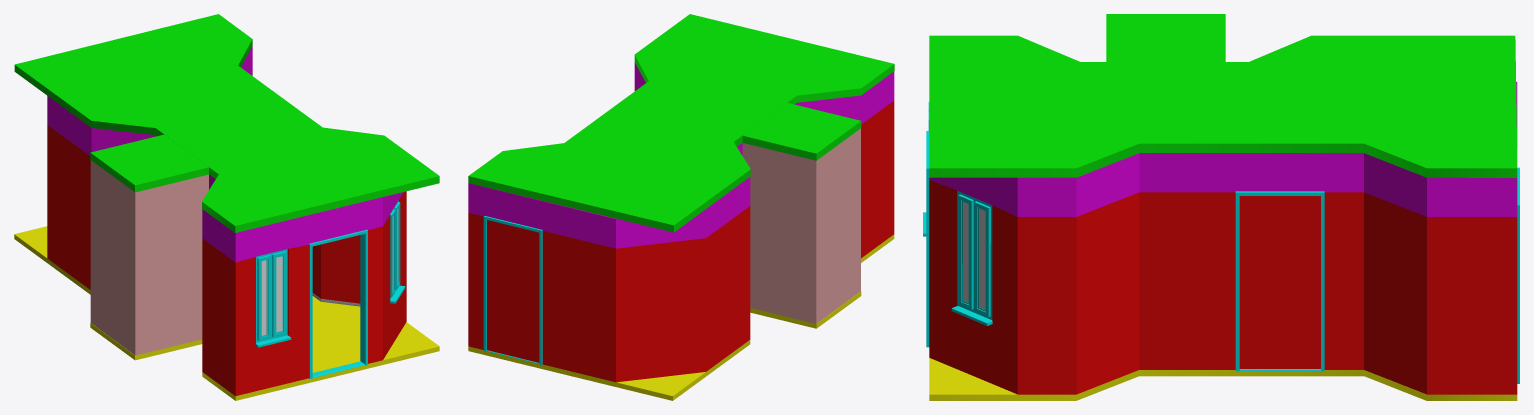
Rendered from FloorPlan507_physics.fbx.
The picture shows the model from 3 angles, left to right: view 1: azimuth 30°, elevation 25°; view 2: azimuth 150°, elevation 25°; view 3: azimuth 270°, elevation 25°; orthographic projection. The views are drawn at different scales.
Parts seen in each view (by area): view 1: FP507:Ceiling_1, Walls, FP507:Walls_2, FP507:Floor_1, FP507:Ceiling_2, FP507:WindowFrame_1, FP507:DoorFrame_1, FP507:WindowFrame_2, FP507:WindowPane_1, FP507:Floor_2; view 2: Walls, FP507:Ceiling_1, FP507:Walls_2, FP507:Ceiling_2, FP507:Floor_1, FP507:DoorFrame_3, FP507:Floor_2; view 3: Walls, FP507:Ceiling_1, FP507:Ceiling_2, FP507:Floor_1, FP507:WindowFrame_2, FP507:DoorFrame_2, FP507:WindowPane_2, FP507:DoorFrame_1, FP507:DoorFrame_3.
Part boxes in pixels (left/top/right/bottom): FP507:Ceiling_1: left=14, top=14, right=439, bottom=232; Walls: left=47, top=46, right=406, bottom=396; FP507:Walls_2: left=90, top=160, right=208, bottom=355; FP507:Floor_1: left=14, top=226, right=439, bottom=400; FP507:Ceiling_2: left=90, top=134, right=208, bottom=192; FP507:WindowFrame_1: left=256, top=249, right=291, bottom=347; FP507:DoorFrame_1: left=309, top=229, right=367, bottom=378; FP507:WindowFrame_2: left=390, top=200, right=405, bottom=303; FP507:WindowPane_1: left=261, top=256, right=282, bottom=335; FP507:Floor_2: left=90, top=323, right=202, bottom=360; Walls: left=468, top=62, right=894, bottom=382; FP507:Ceiling_1: left=468, top=14, right=894, bottom=232; FP507:Walls_2: left=742, top=128, right=860, bottom=323; FP507:Ceiling_2: left=742, top=103, right=861, bottom=160; FP507:Floor_1: left=468, top=234, right=894, bottom=400; FP507:DoorFrame_3: left=483, top=216, right=542, bottom=364; FP507:Floor_2: left=750, top=291, right=861, bottom=328; Walls: left=929, top=81, right=1517, bottom=394; FP507:Ceiling_1: left=929, top=35, right=1517, bottom=177; FP507:Ceiling_2: left=1106, top=14, right=1225, bottom=61; FP507:Floor_1: left=929, top=358, right=1517, bottom=400; FP507:WindowFrame_2: left=951, top=191, right=992, bottom=325; FP507:DoorFrame_2: left=1235, top=191, right=1324, bottom=371; FP507:WindowPane_2: left=963, top=201, right=985, bottom=309; FP507:DoorFrame_1: left=926, top=131, right=929, bottom=347; FP507:DoorFrame_3: left=1517, top=167, right=1519, bottom=383.
Size of the model in its own units: 382 by 268 by 624.
